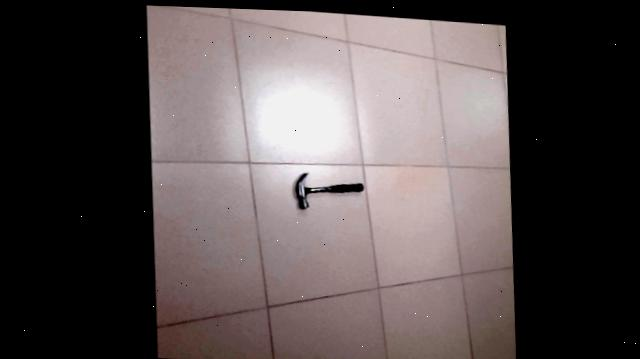hammer: (291, 166, 369, 212)
